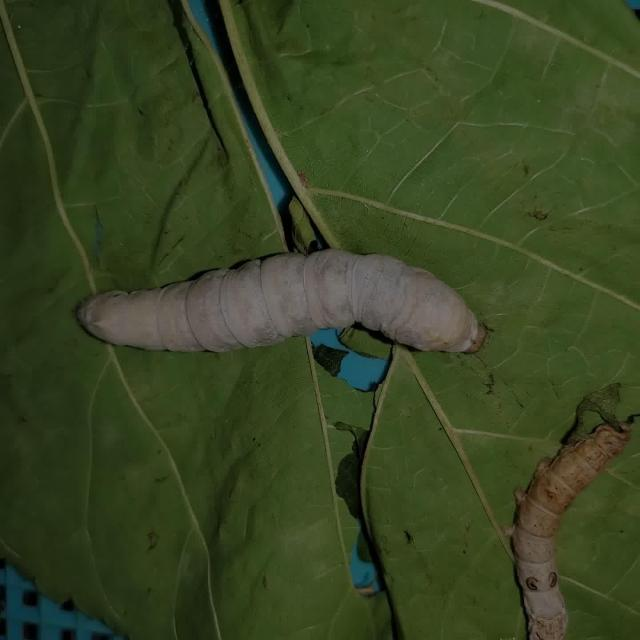Grasserie: (72, 232, 496, 392)
